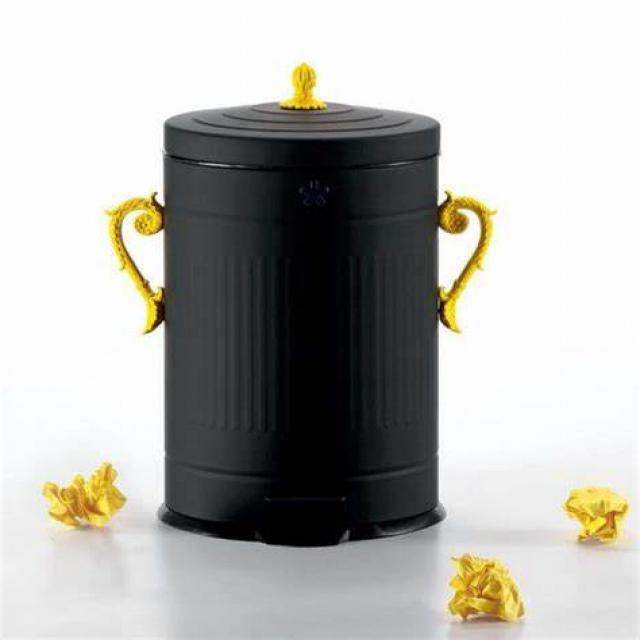garbage container: (98, 54, 508, 555)
